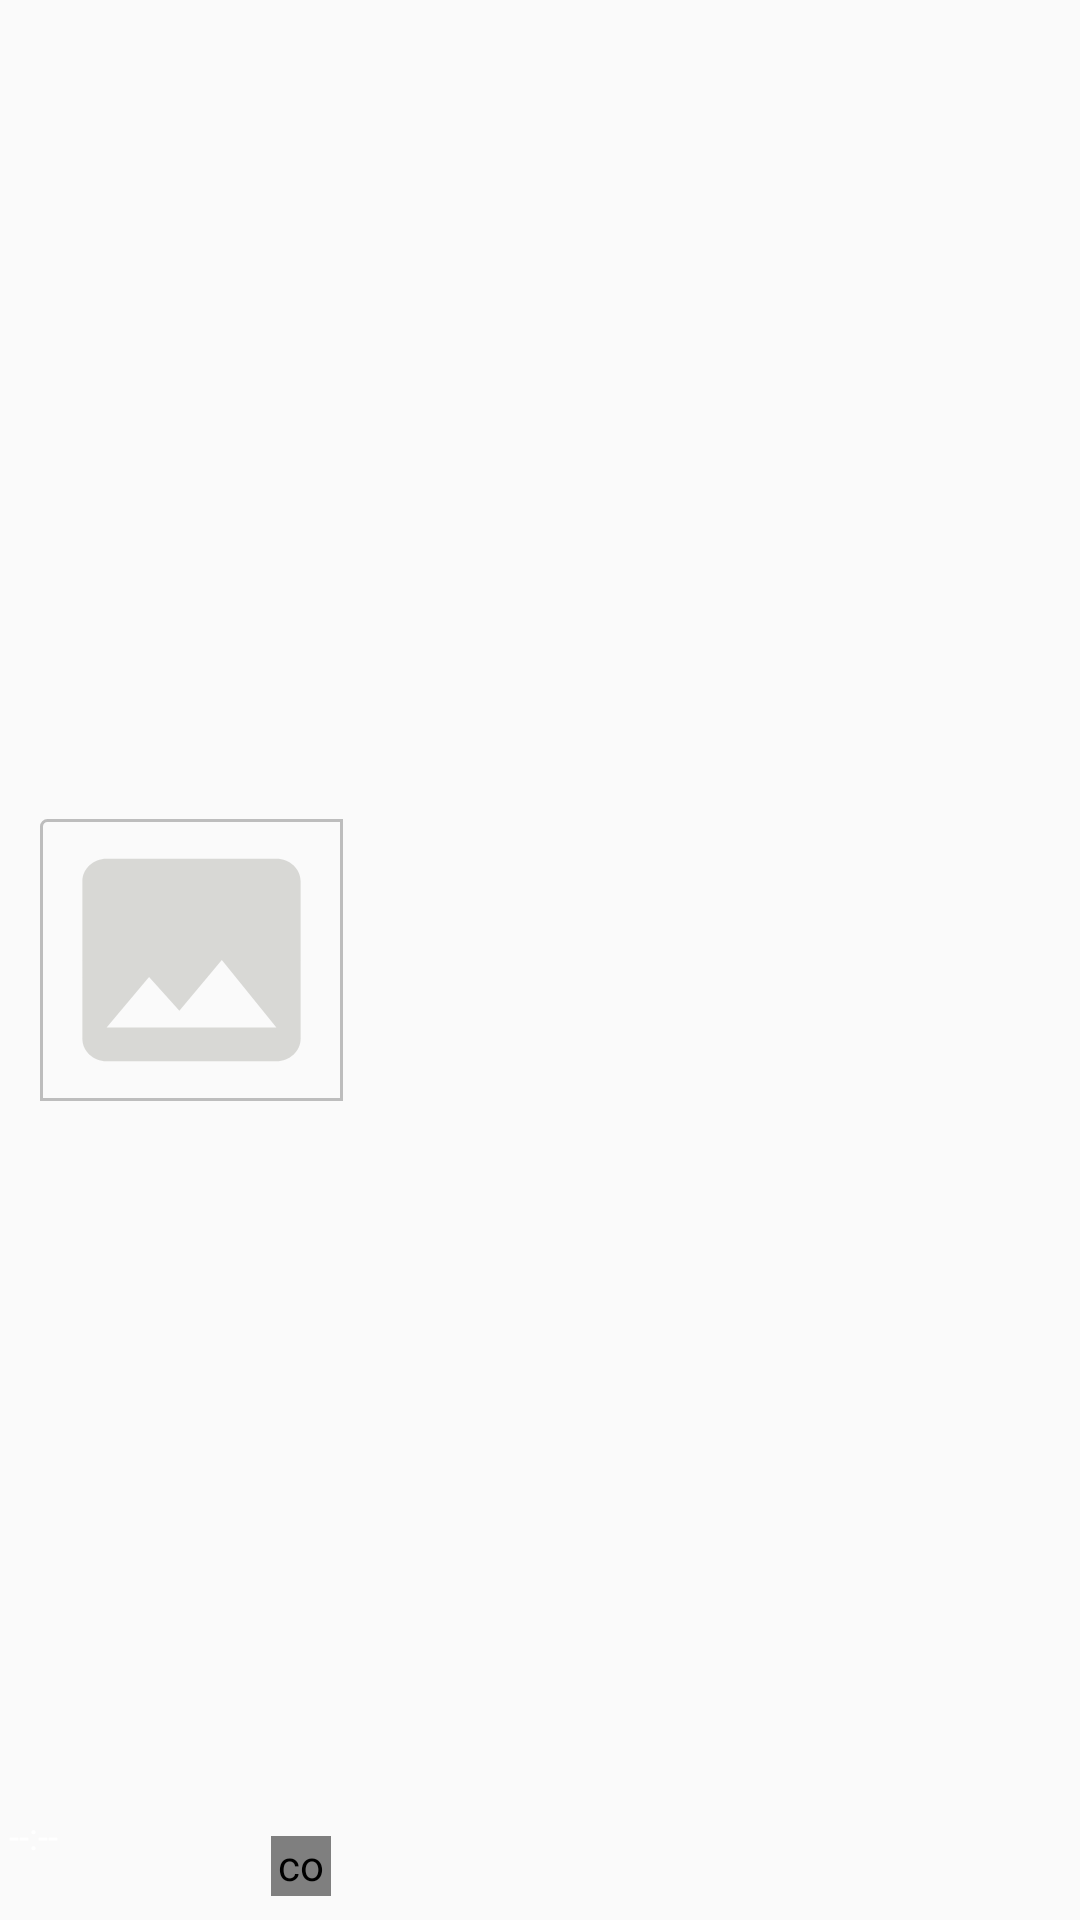

Screen size 1080×1920. Icon name, then its box in pixels as [x1=x1, y1=y1, x2=x2, y2=y2]:
photo: [x1=40, y1=819, x2=343, y2=1101]
